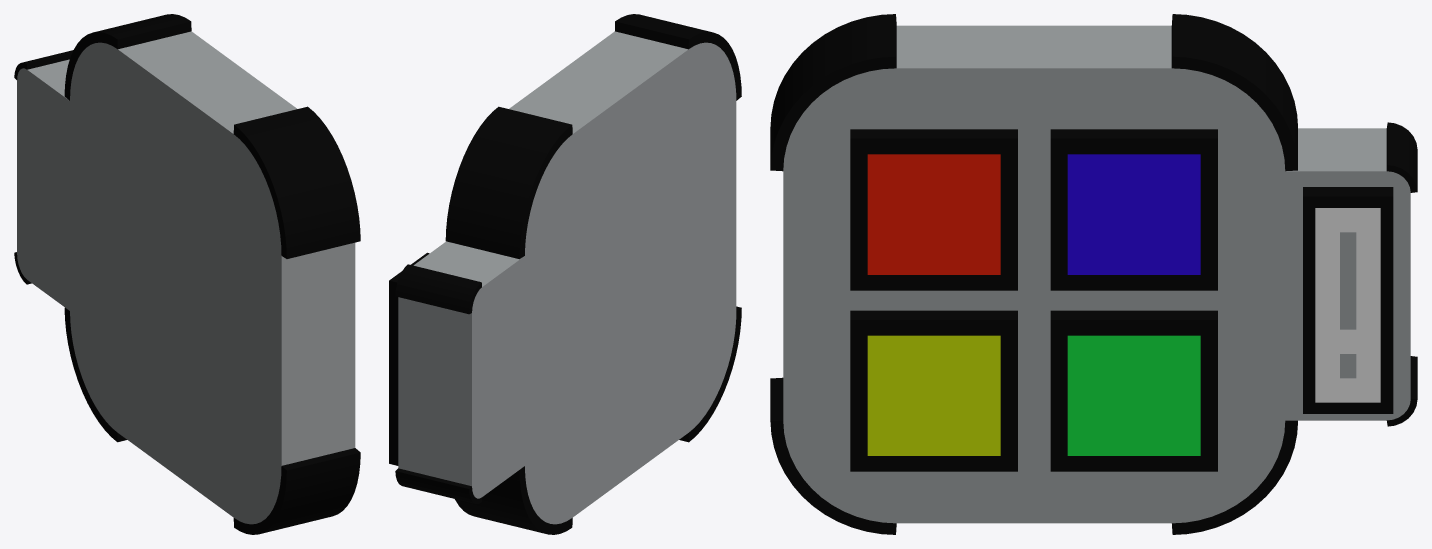
The model's file is turret_control_head_left.fbx.
3 renders of one model, left to right at view 1: azimuth 30°, elevation 25°; view 2: azimuth 150°, elevation 25°; view 3: azimuth 270°, elevation 25°, orthographic. The views are drawn at different scales.
Visible parts, largest first — view 1: Cube; view 2: Cube; view 3: Cube.
Part boxes in pixels (bbox=[...]): Cube: bbox=[14, 14, 360, 534]; Cube: bbox=[389, 14, 741, 534]; Cube: bbox=[770, 14, 1417, 534].
Size of the model in its own units: 49.29 by 210 by 258.
